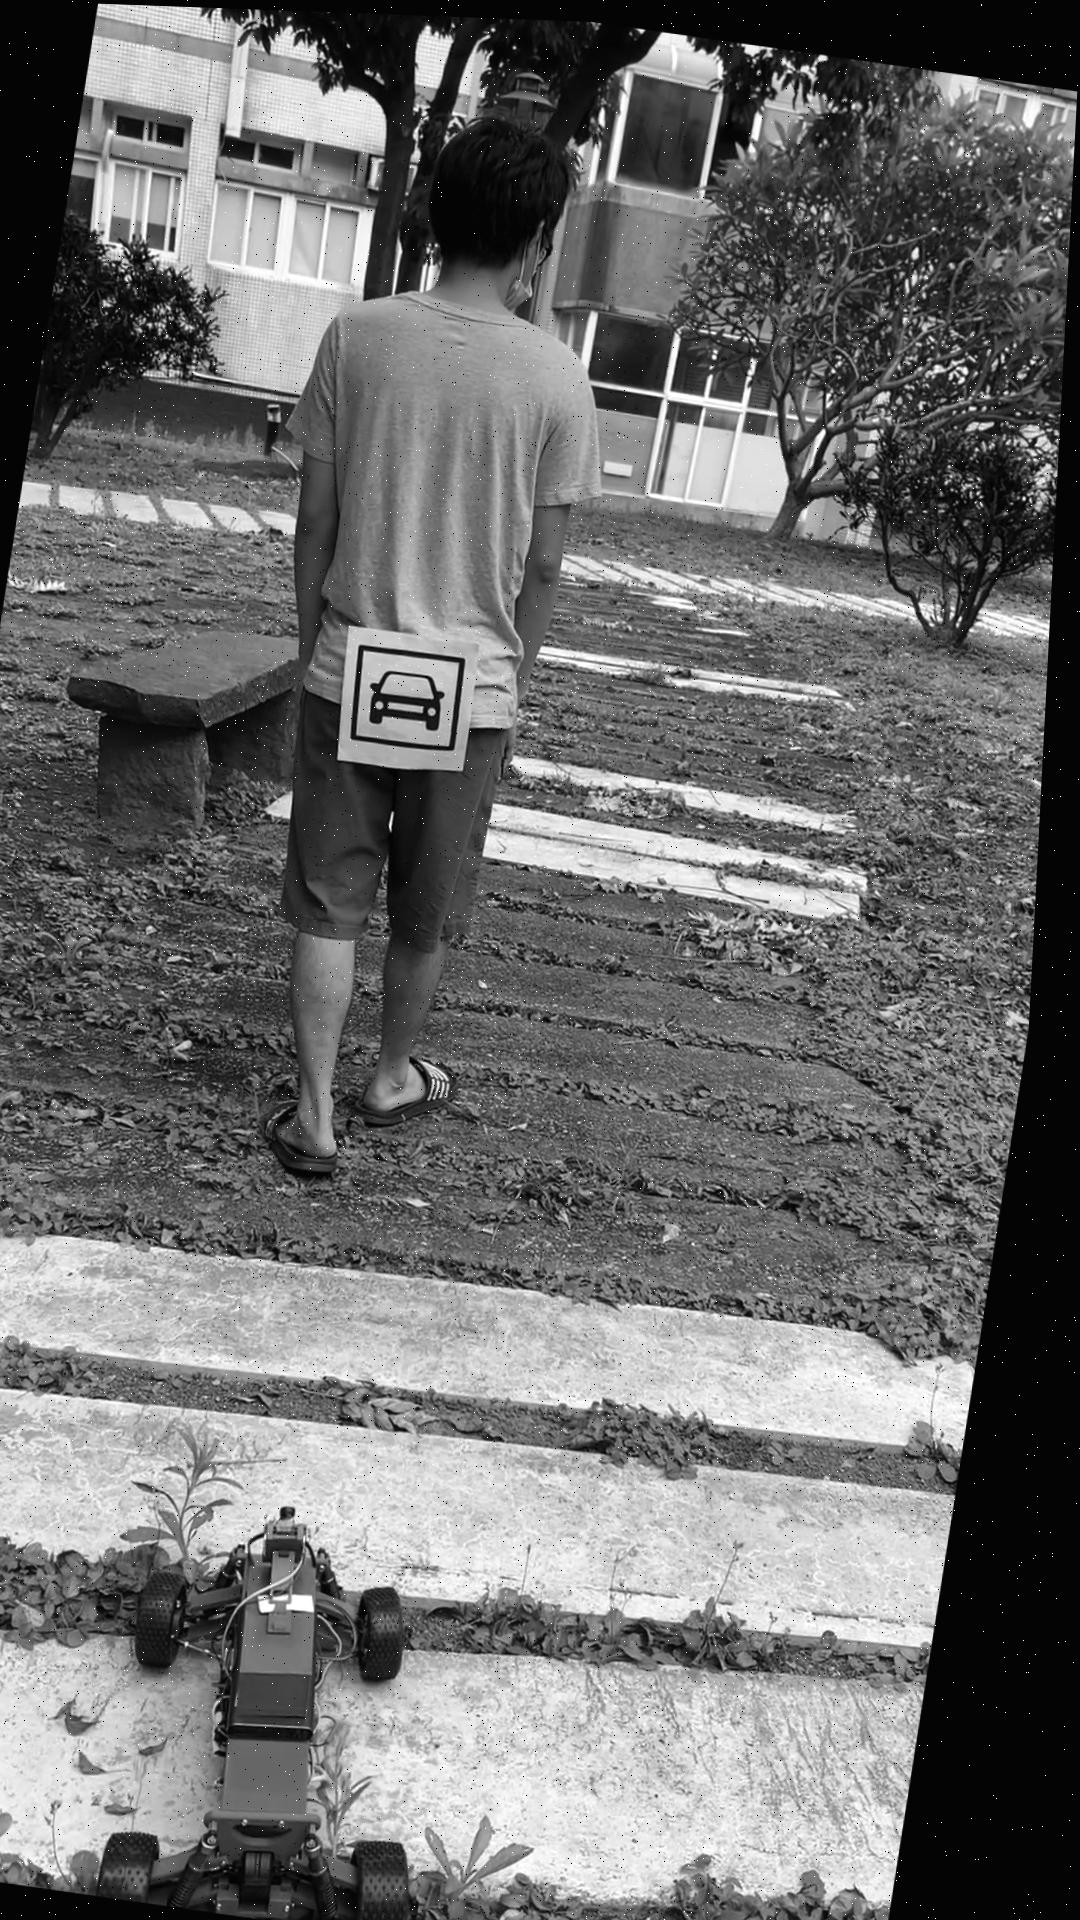car_img: (349, 638, 477, 752)
